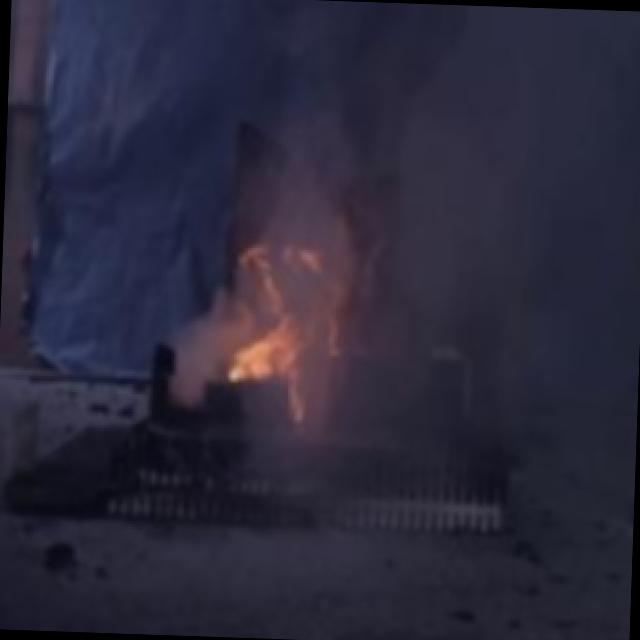fire: (218, 224, 334, 393)
